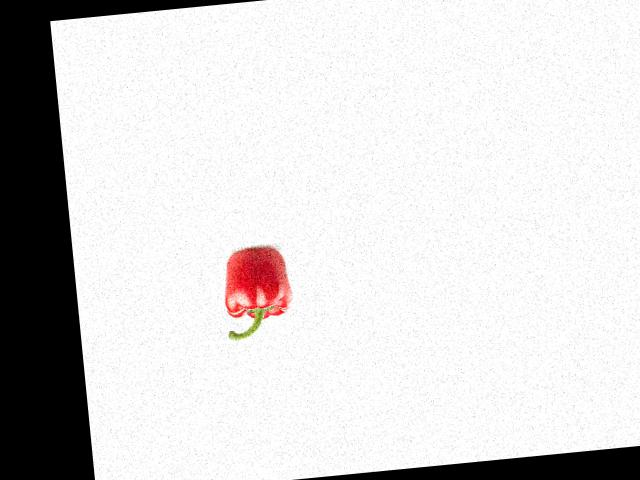bell_pepper: (217, 244, 294, 341)
